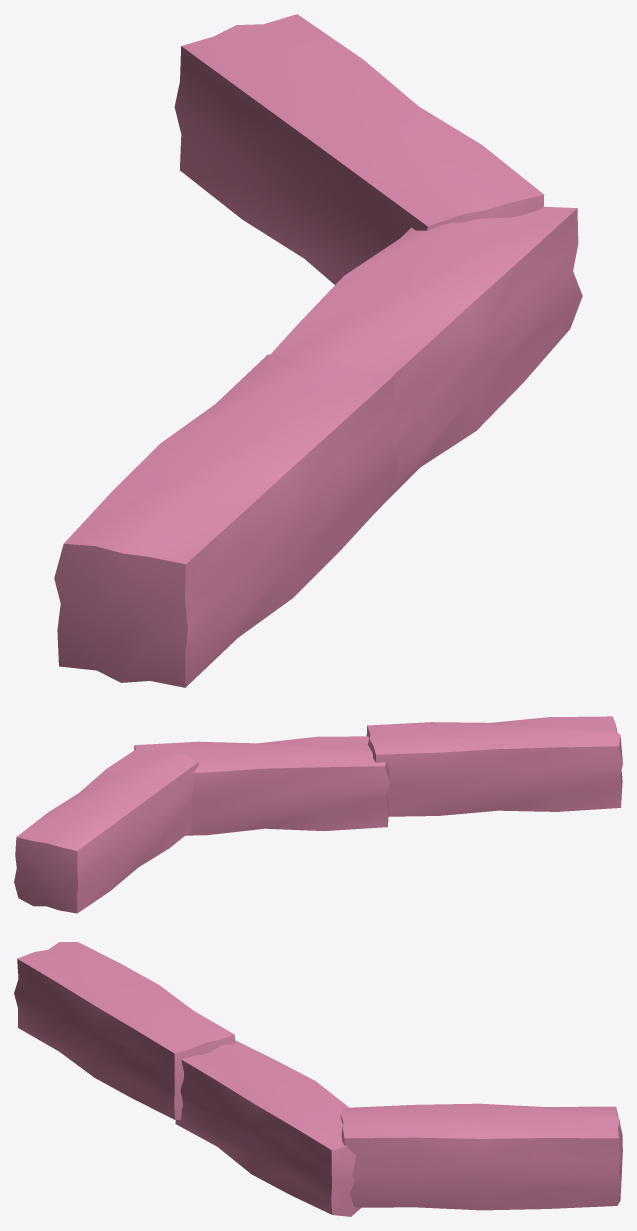
The model's file is CornerStone.fbx.
3 views of the same model, one above another, from view 1: azimuth 30°, elevation 25°; view 2: azimuth 150°, elevation 25°; view 3: azimuth 270°, elevation 25° (orthographic). The views are drawn at different scales.
Parts seen in each view (by area): view 1: Edge Cubes.001; view 2: Edge Cubes.001; view 3: Edge Cubes.001.
Boxes of the visible parts, x1,y1,x2,y2 form: Edge Cubes.001: (54, 14, 582, 687); Edge Cubes.001: (14, 716, 622, 913); Edge Cubes.001: (14, 942, 622, 1216).
Bounding box in the file's own units: 46.48 × 58.32 × 9.3.
